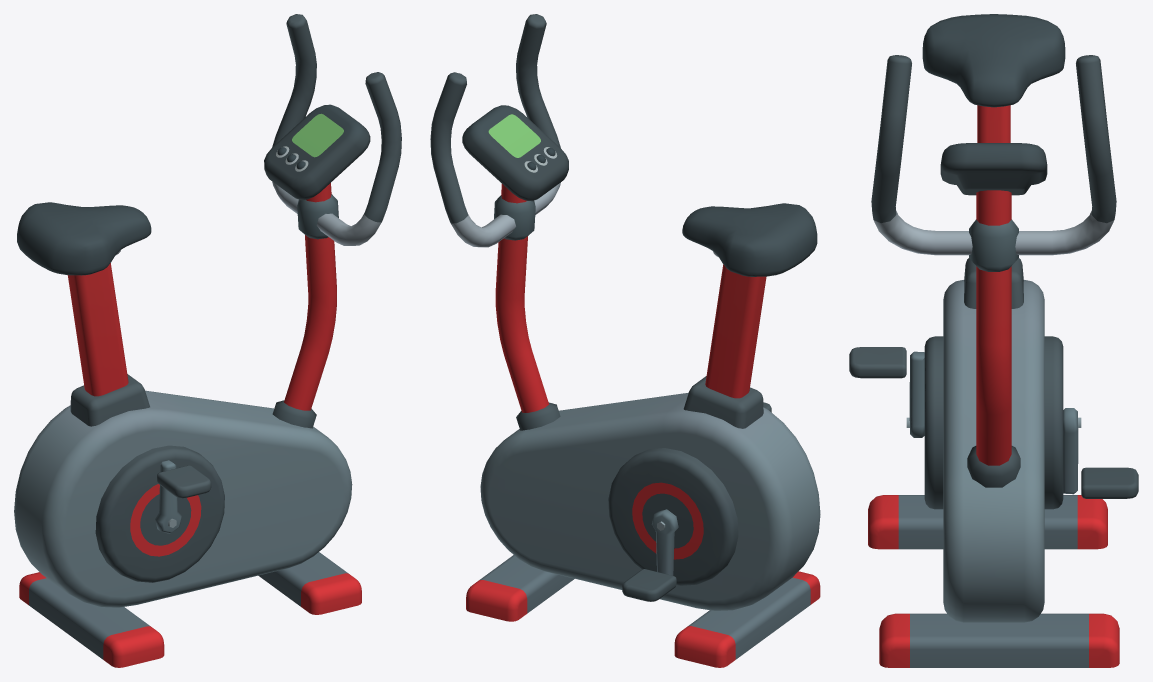
The model's file is exercise_bike_01.glb.
3 renders of one model, left to right at view 1: azimuth 30°, elevation 25°; view 2: azimuth 150°, elevation 25°; view 3: azimuth 270°, elevation 25°, orthographic. The views are drawn at different scales.
Visible parts, largest first — view 1: ExerciseBike_01; view 2: ExerciseBike_01; view 3: ExerciseBike_01.
Boxes of the visible parts, left/top/right/bottom form: ExerciseBike_01: left=14, top=14, right=401, bottom=667; ExerciseBike_01: left=430, top=14, right=820, bottom=667; ExerciseBike_01: left=849, top=14, right=1138, bottom=667.
Bounding box in the file's own units: 0.9357 × 1.41 × 0.5925.
1 material, 1 textured.
